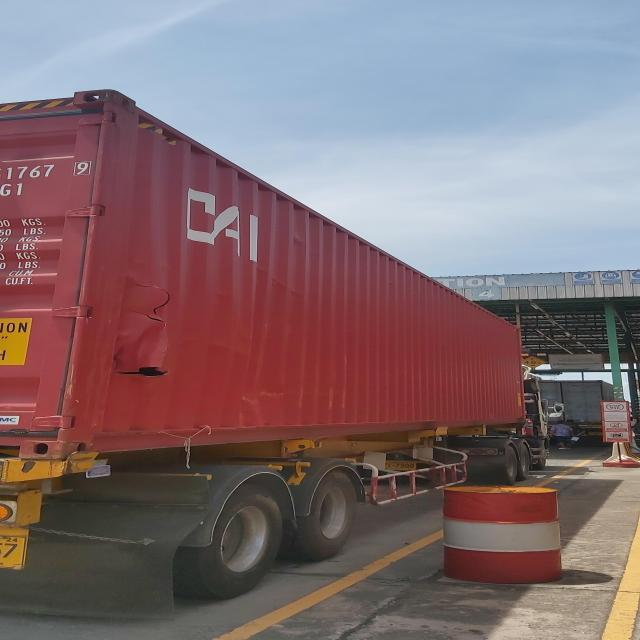hole: (119, 367, 171, 379)
